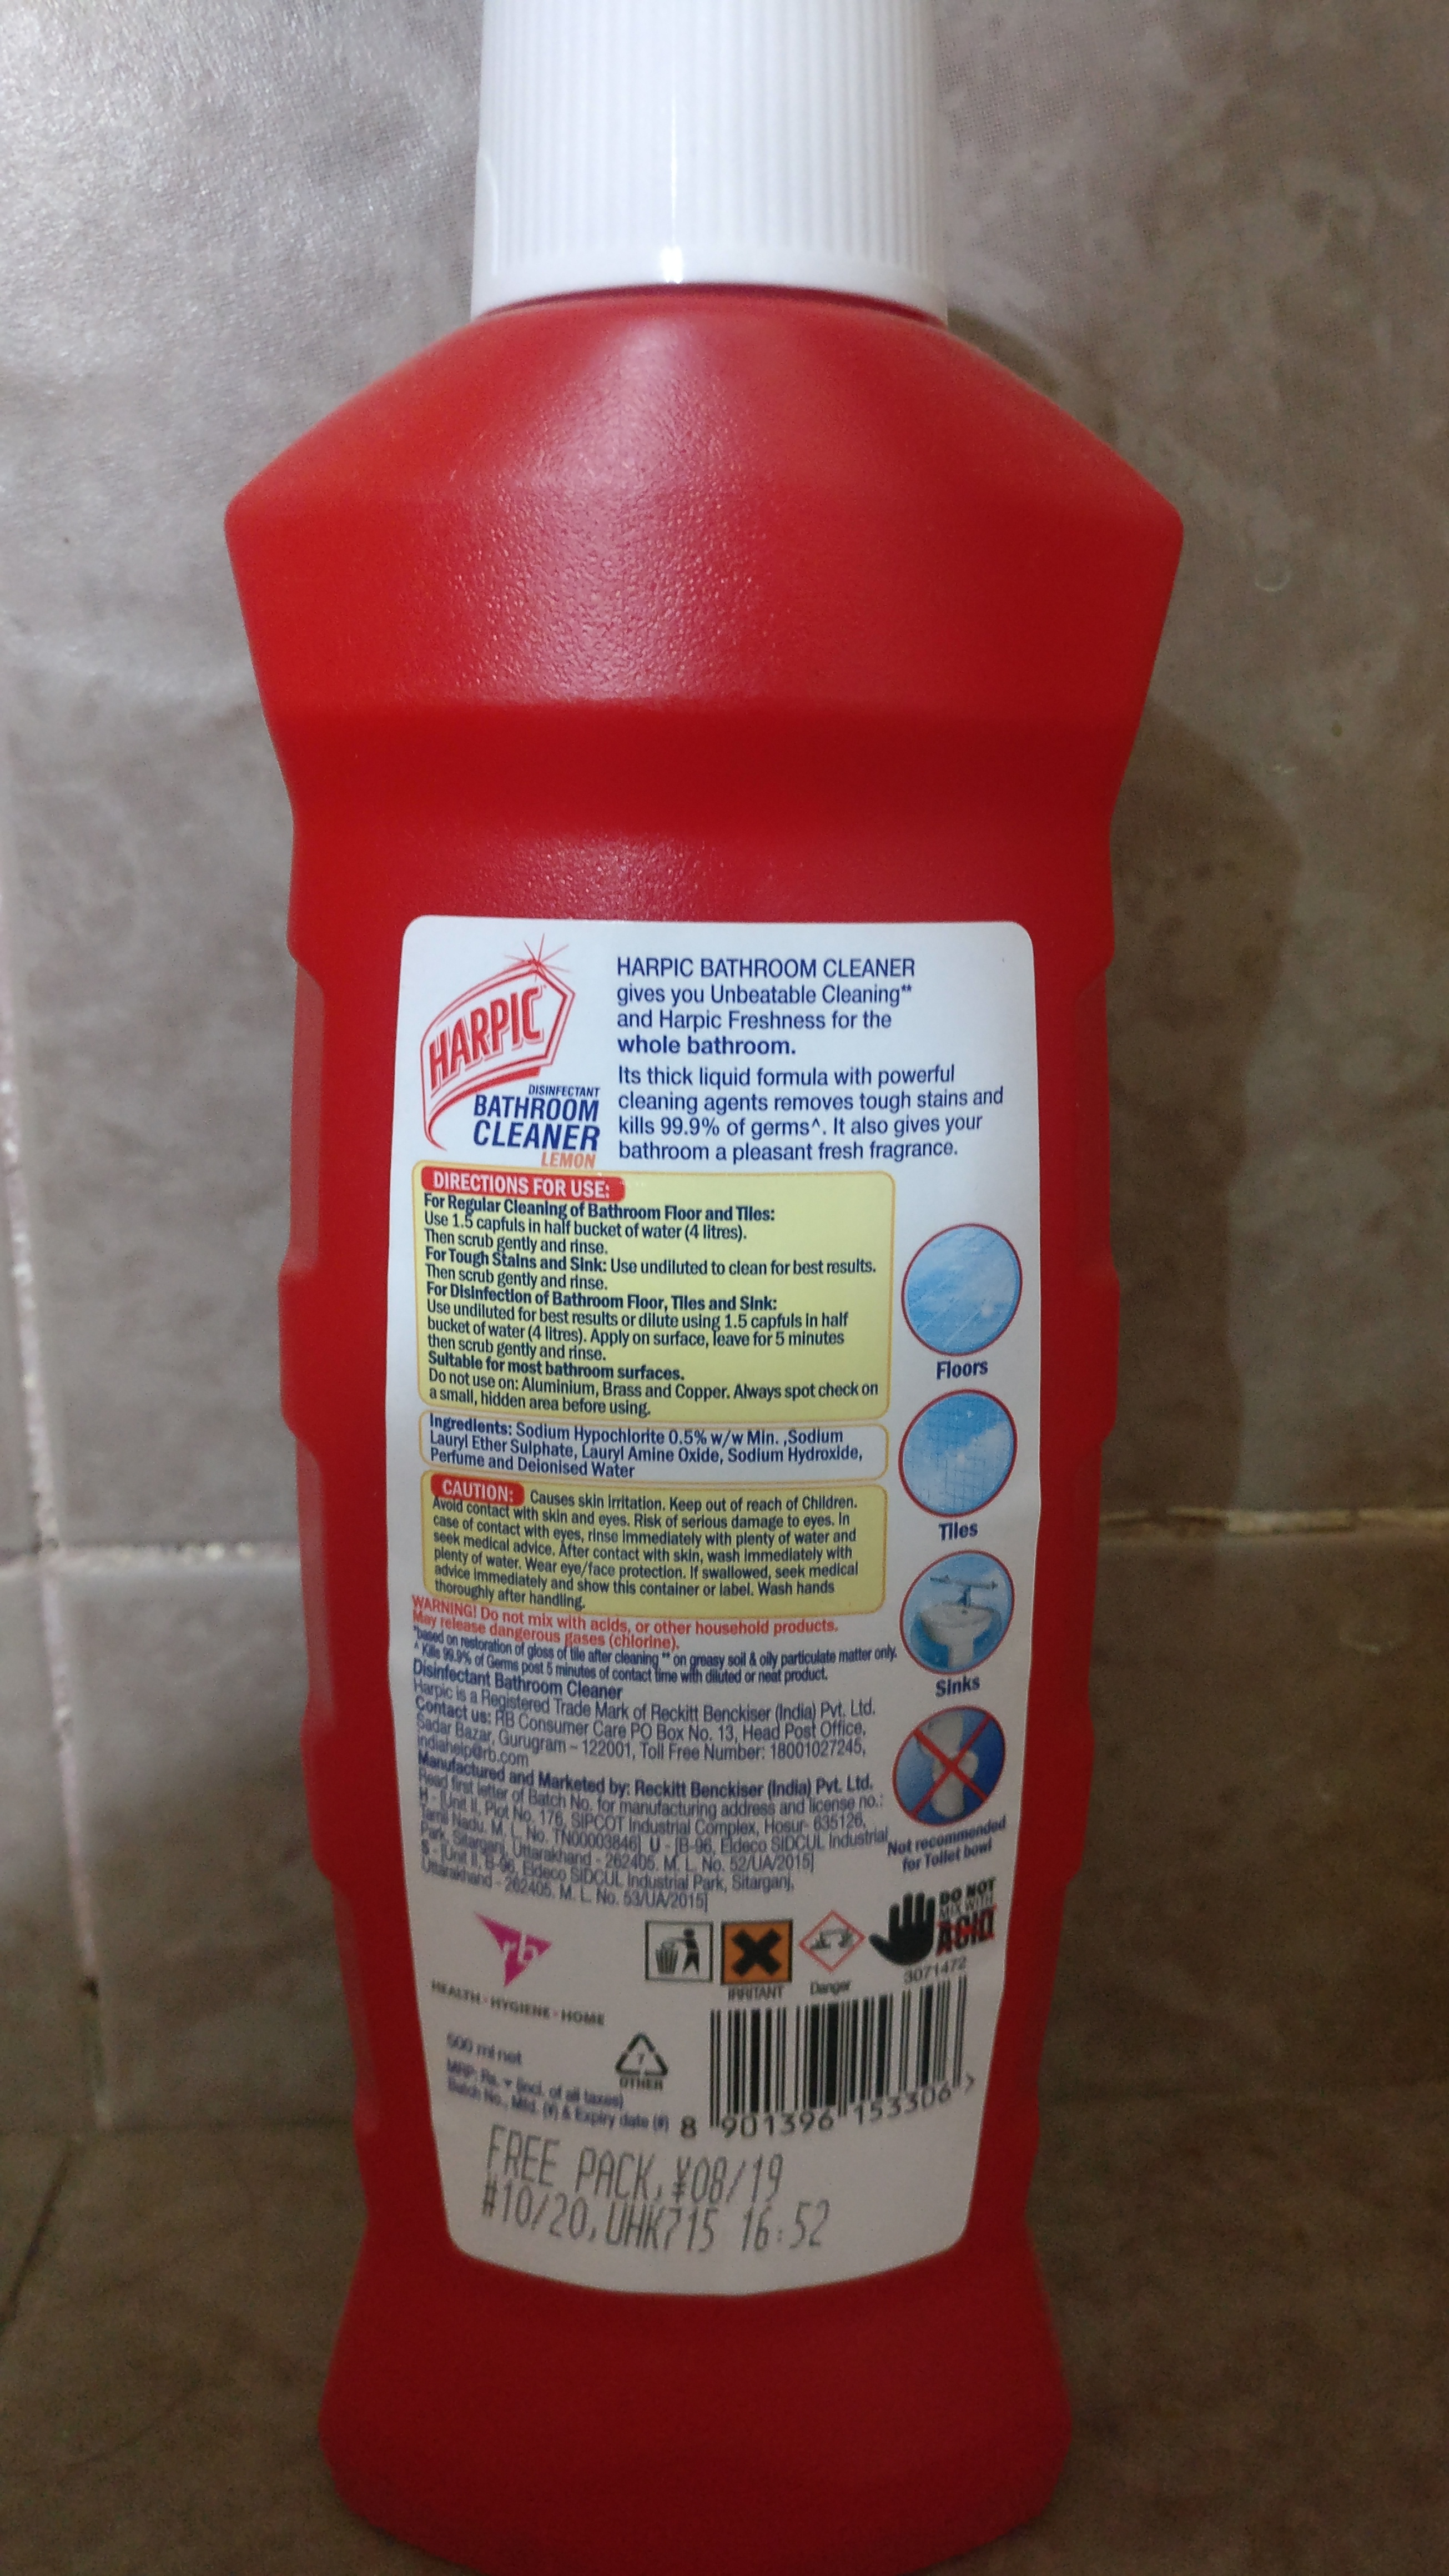barcode: (695, 1982, 1014, 2148)
